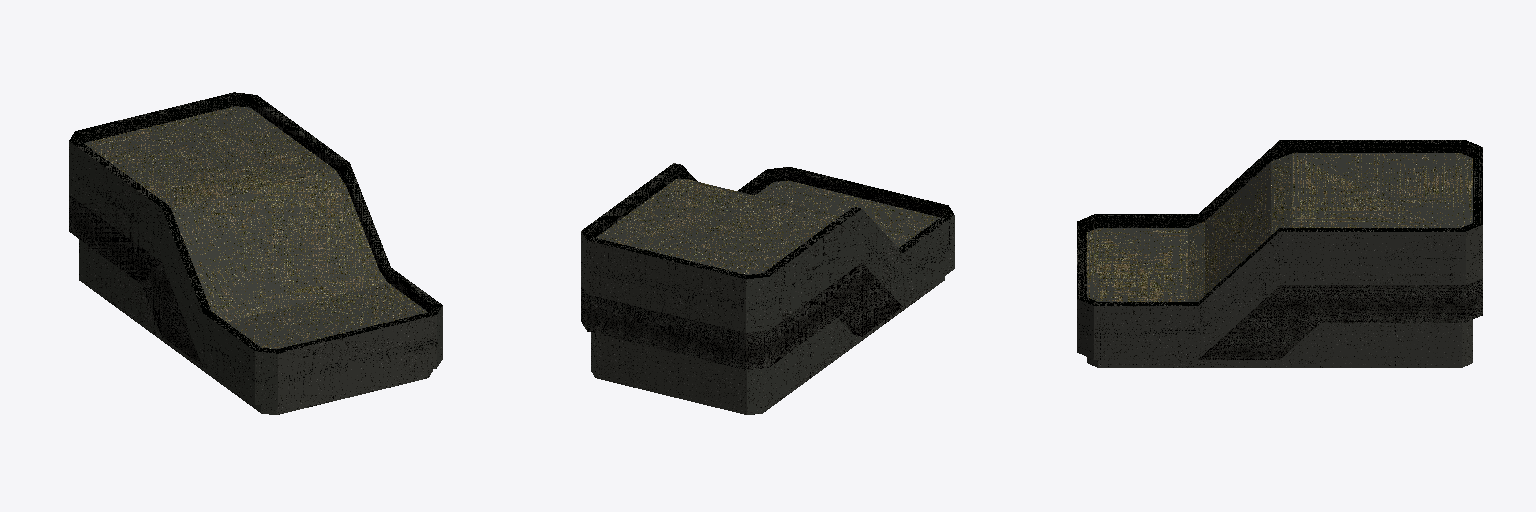
3 renders of one model, left to right at view 1: azimuth 30°, elevation 25°; view 2: azimuth 150°, elevation 25°; view 3: azimuth 270°, elevation 25°, orthographic.
Parts seen in each view (by area): view 1: Object_1; view 2: Object_1; view 3: Object_1.
Part boxes in pixels (left/top/right/bottom): Object_1: left=69, top=92, right=442, bottom=414; Object_1: left=581, top=163, right=954, bottom=414; Object_1: left=1077, top=140, right=1482, bottom=367.
Bounding box in the file's own units: 0.9661 × 0.6885 × 1.8.
Materials: 10 (4 with a texture image).